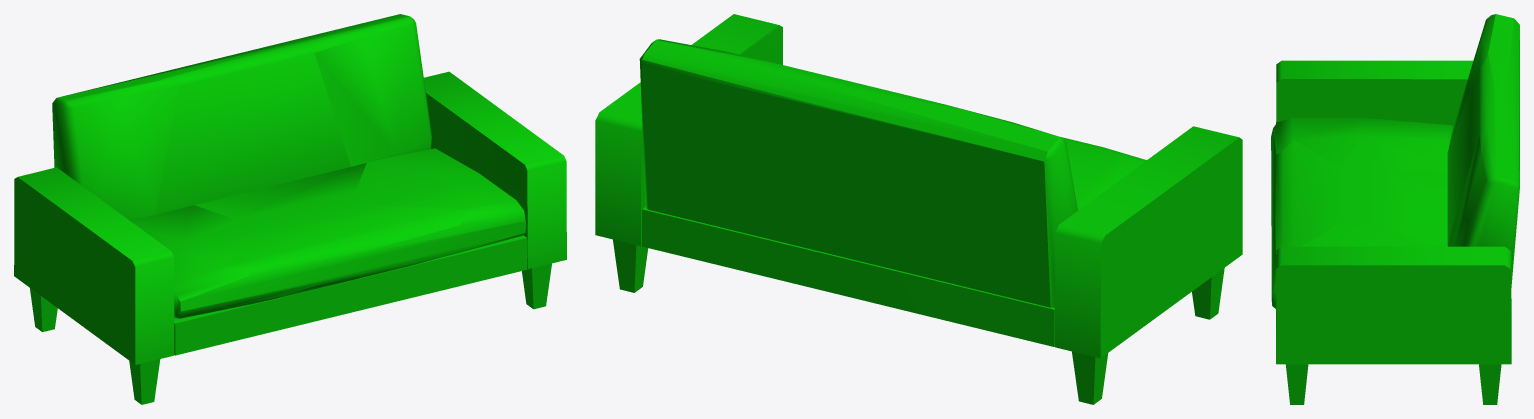
File: UCX_Sofa1.fbx
3 renders of one model, left to right at view 1: azimuth 30°, elevation 25°; view 2: azimuth 150°, elevation 25°; view 3: azimuth 270°, elevation 25°, orthographic. The views are drawn at different scales.
Visible parts, largest first — view 1: UCX_Sofa1; view 2: UCX_Sofa1; view 3: UCX_Sofa1.
Boxes of the visible parts, <box> form: UCX_Sofa1: <box>14,14,566,404</box>; UCX_Sofa1: <box>595,14,1242,404</box>; UCX_Sofa1: <box>1271,14,1519,404</box>.
Size of the model in its own units: 1.6 by 0.78 by 0.8209.
